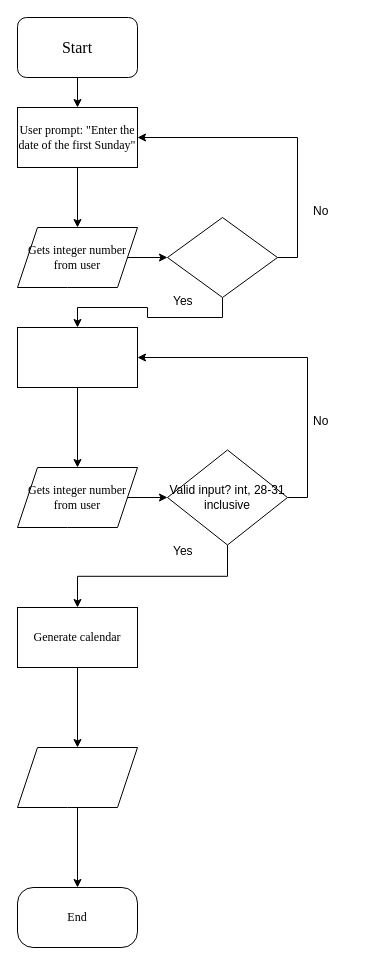
This 365x965 diagram has some shape labels left out. The shapes that lost their labels are listed below. From the top down, each one's box as (x1, y1, x2, y2) in pixels, then its label:
(166, 216, 278, 298): Valid input? int
(16, 326, 138, 388): User prompt: "Enter the total number of days in the month"
(16, 746, 138, 808): Output calendar
